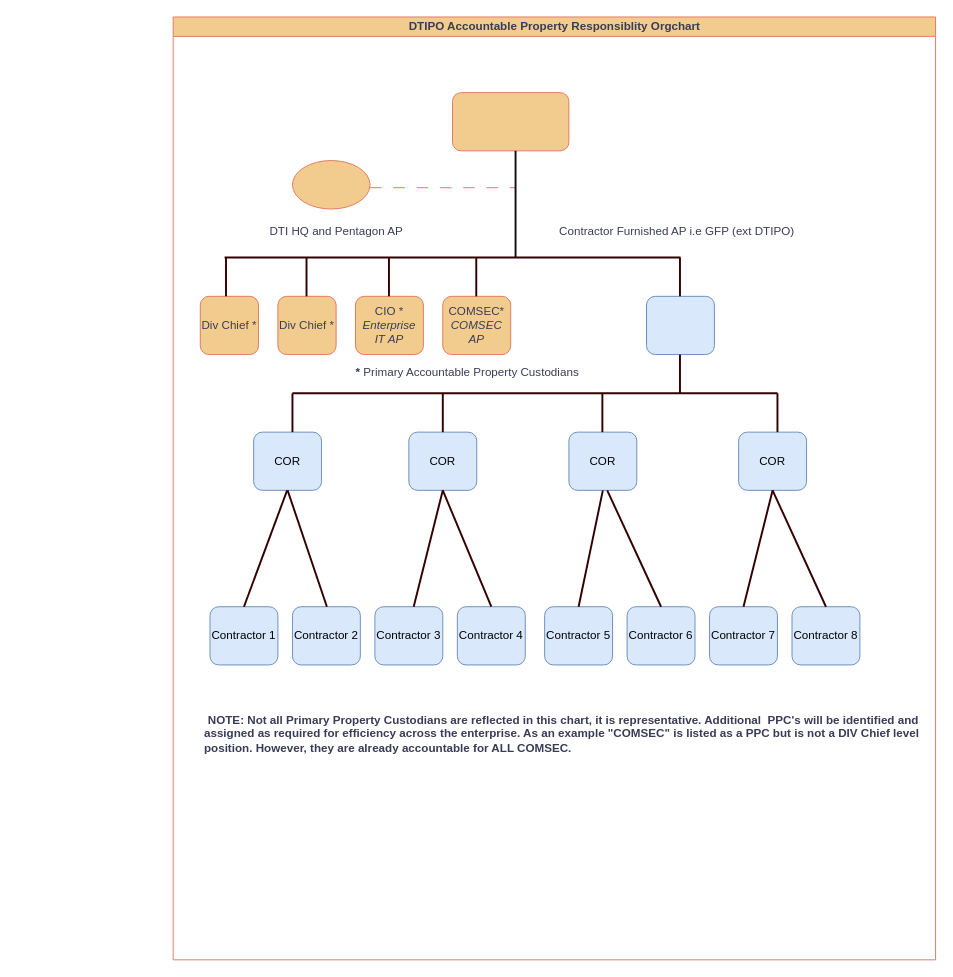
Image size: 953x977. Some labels were removed from this diagram. Here are the shapes that lost their labels. From the top down, the centre of each, then its label:
At [510,121]: "Director DTIPO".
At [330,184]: "APO".
At [680,325]: "Contracting Officer *".
